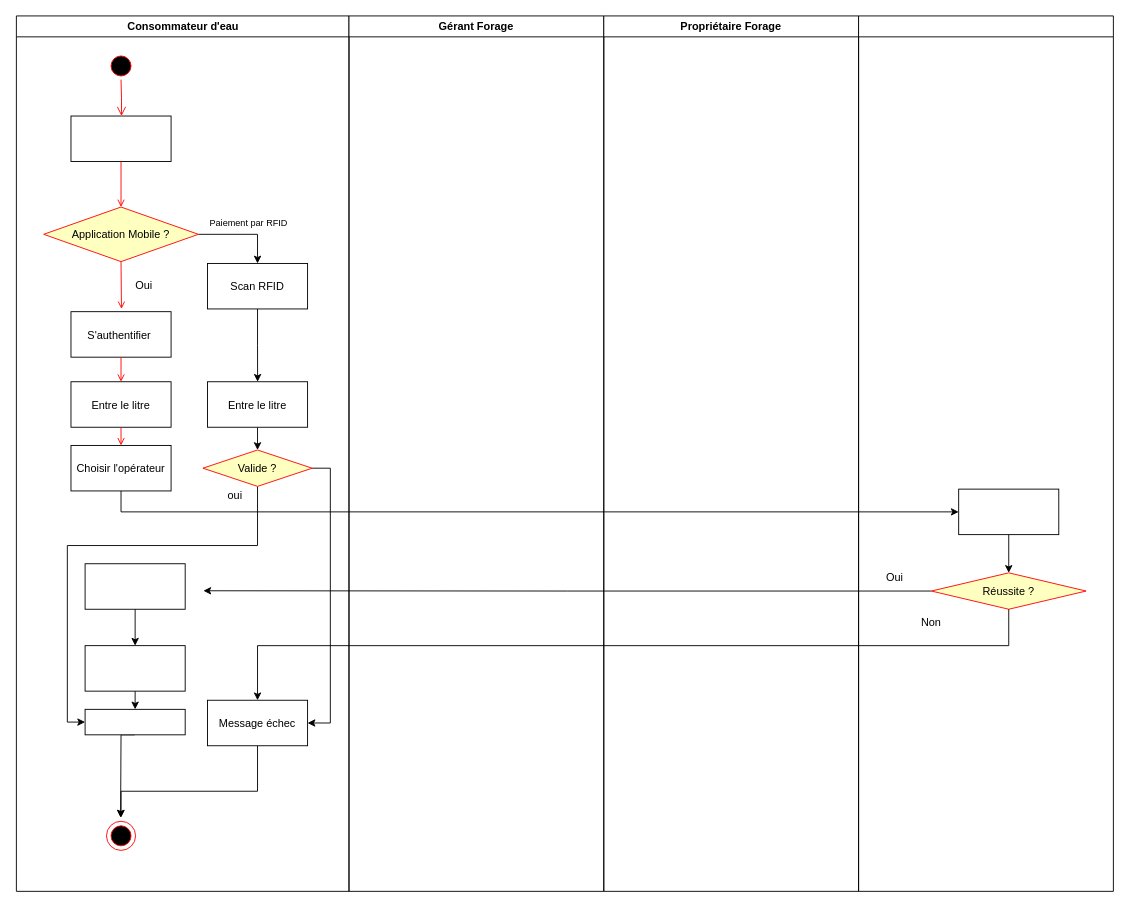
The diagram is 1129 pixels wide and 907 high, and some of its shapes have lost their labels. Each missing label, with the box of its shape:
Access Code: (84, 563, 185, 609)
Choisir mode de paiement: (70, 115, 171, 162)
Opérateur Mobile: (858, 15, 1113, 891)
Récupérer l'eau: (84, 708, 185, 735)
Taper le code sur compteur: (84, 645, 185, 691)
Traiter le Paiement: (958, 488, 1059, 535)
